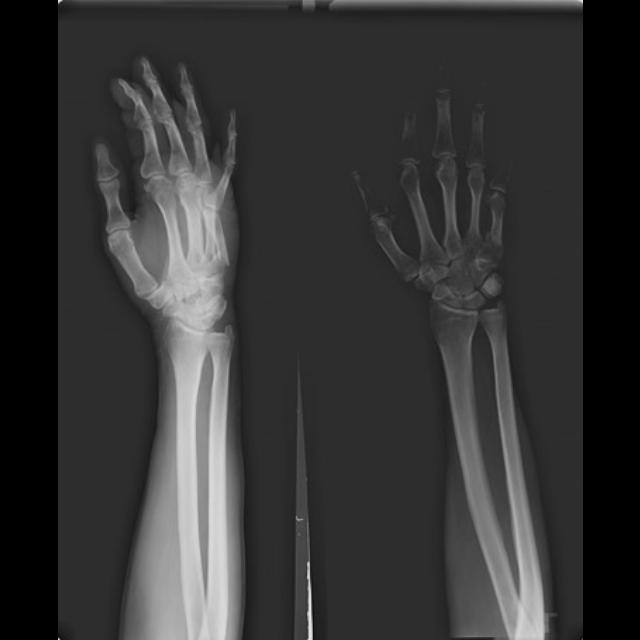Fracture: (485, 226, 505, 254), (209, 248, 232, 270)
